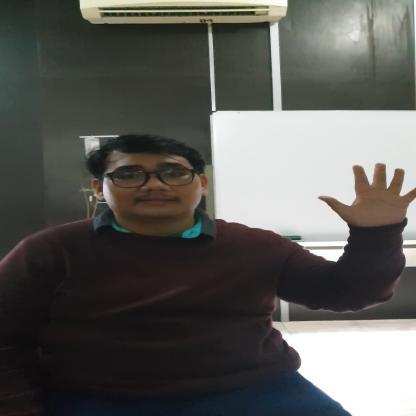Halo: (311, 160, 416, 232)
